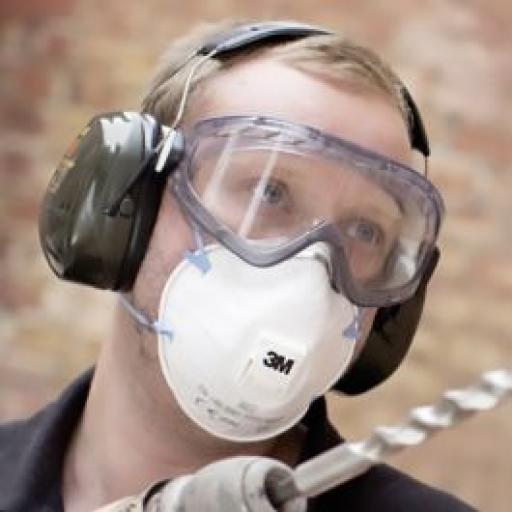mask: (152, 229, 371, 444)
